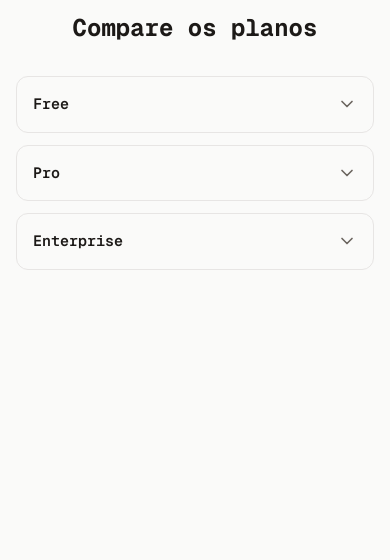
ComparisonTable › mobile accordion › clicking a second plan collapses the first one (mutual exclusion)
Click the button "Free".
click(51, 104)  # box [17,77,373,132]
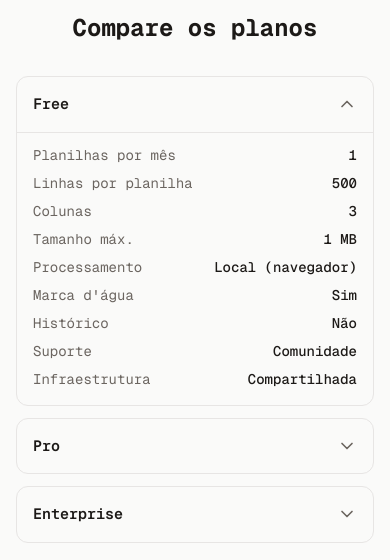
Expected: the button "Free" is expanded, [17,77,373,132]
Click the button "Pro".
click(47, 445)  # box [17,418,373,473]
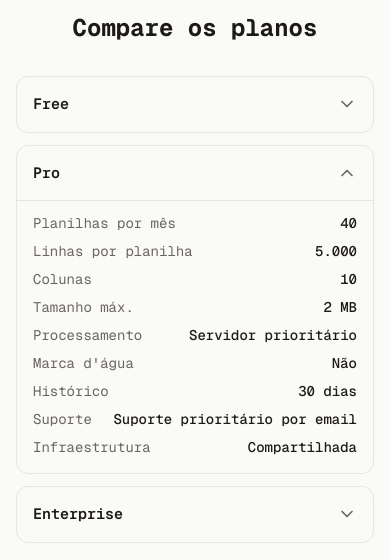
Expected: the button "Pro" is expanded, [17,146,373,200]
Expected: the button "Free" is collapsed, [17,77,373,132]
